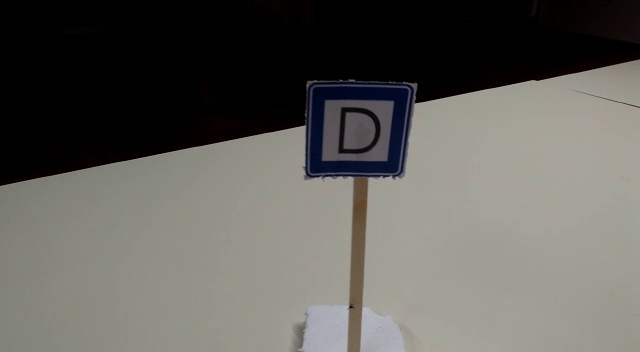durak: (305, 84, 414, 177)
